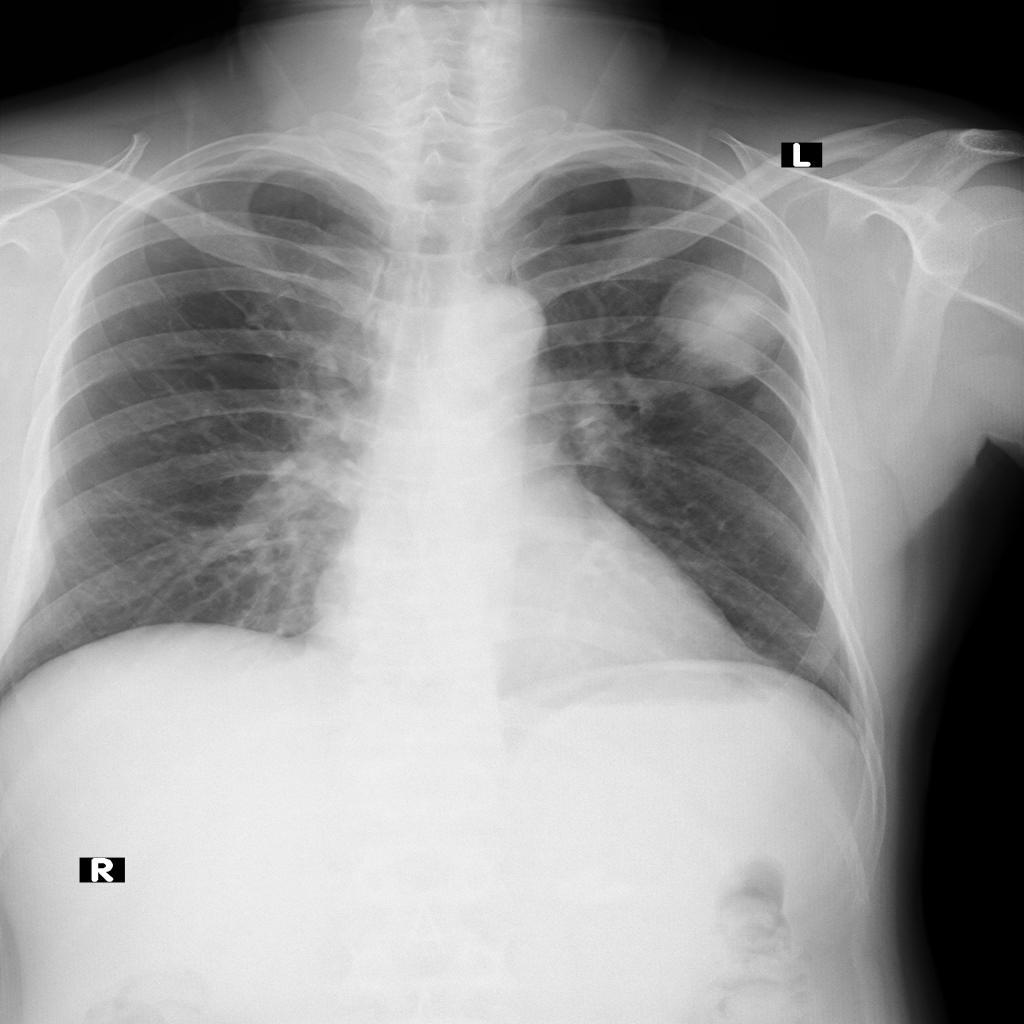Nodule: (657, 267, 780, 389)
